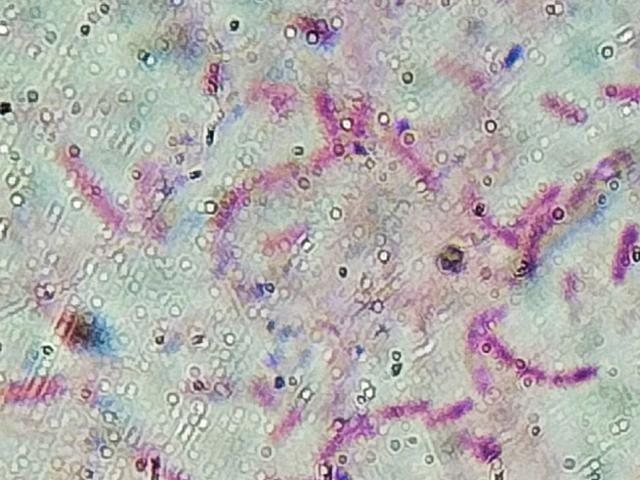E. coli: (512, 353, 607, 394), (0, 369, 94, 409), (61, 153, 106, 218), (132, 159, 171, 232), (255, 149, 326, 185), (391, 135, 438, 187), (323, 417, 377, 458), (205, 182, 250, 231), (265, 400, 309, 447), (568, 155, 608, 206), (376, 390, 432, 423), (239, 72, 286, 109), (609, 217, 634, 283), (465, 319, 490, 385), (602, 76, 640, 114), (522, 222, 549, 275), (265, 222, 304, 258), (462, 433, 511, 461), (435, 394, 477, 425), (316, 93, 344, 137), (488, 326, 514, 368), (522, 177, 558, 206), (538, 90, 578, 115), (356, 96, 376, 141), (478, 205, 504, 238)
